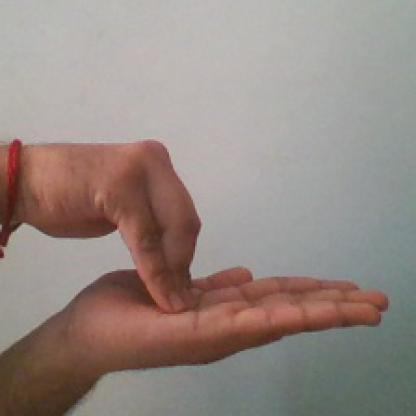Z: (44, 130, 396, 372)
